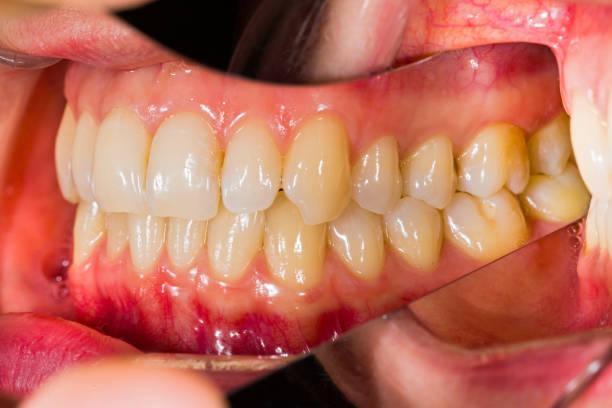Gingivitis: (91, 270, 325, 349)
